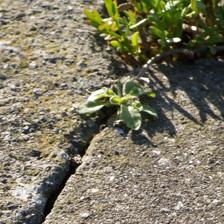Crack: (12, 58, 100, 166)
